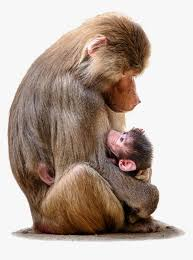monkey: (54, 17, 141, 234), (77, 127, 173, 157)
